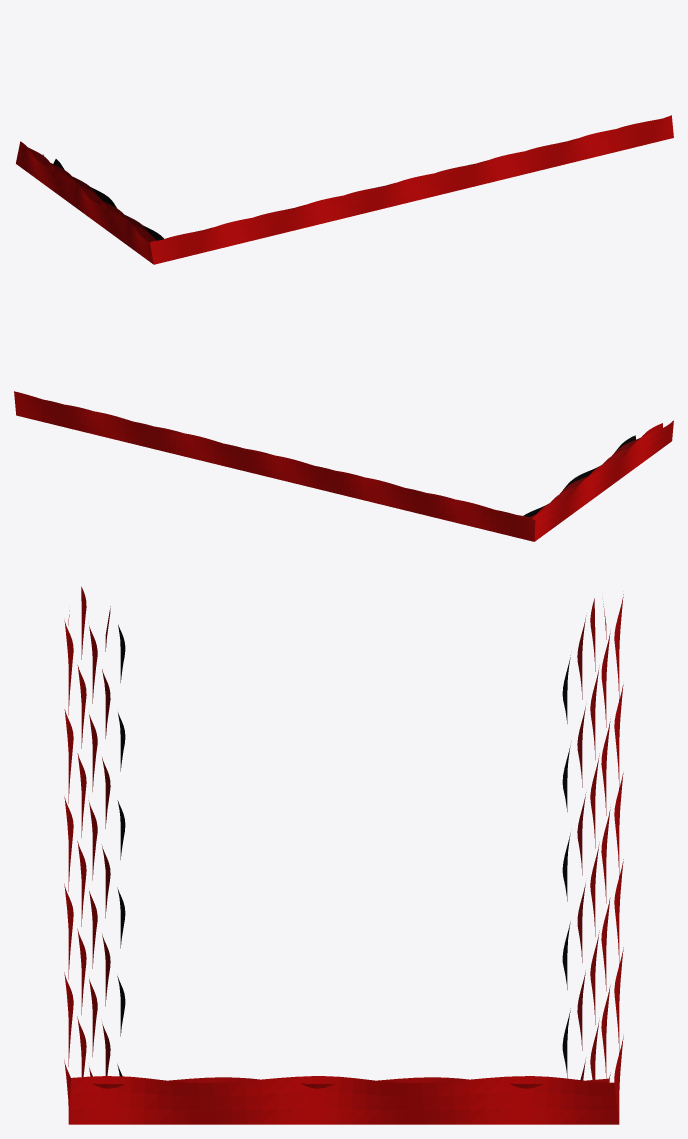
Rendered from ash_fog_layers.glb.
3 views of the same model, one above another, from view 1: azimuth 30°, elevation 25°; view 2: azimuth 150°, elevation 25°; view 3: azimuth 270°, elevation 25° (orthographic). The views are drawn at different scales.
Parts seen in each view (by area): view 1: geometry_0; view 2: geometry_0; view 3: geometry_0.
Boxes of the visible parts, box(x1,y1,x2,y2) form: geometry_0: box(16, 115, 673, 264); geometry_0: box(14, 391, 673, 541); geometry_0: box(64, 586, 623, 1124).
Size of the model in its own units: 3283 by 135 by 1516.
